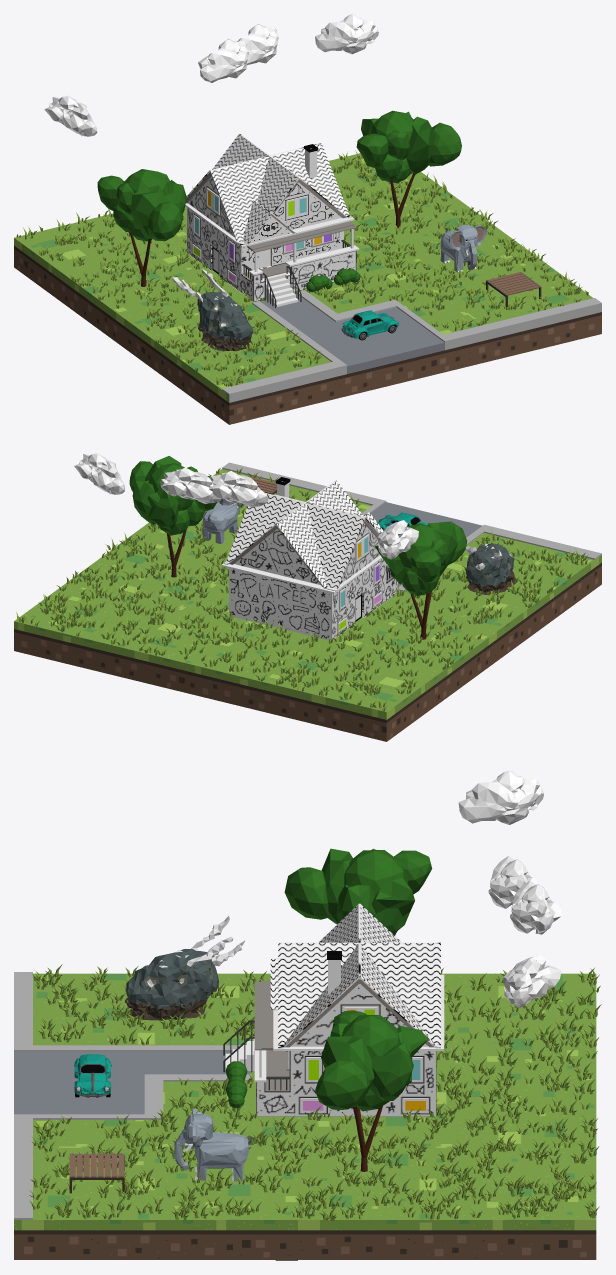
The picture shows the model from 3 angles, top to bottom: view 1: azimuth 30°, elevation 25°; view 2: azimuth 150°, elevation 25°; view 3: azimuth 270°, elevation 25°; orthographic projection. The views are drawn at different scales.
Visible parts, largest first — view 1: Cube.006, Cube.879, Circle.012_Grass_0.192, Cube.007, tree, tree.001, OBJRANDOM_METEORITE, ANIMAL_ELEFANTE, VEHICLES_VOLKSWAGEN, Cube.009; view 2: Cube.006, Cube.879, Circle.012_Grass_0.192, Cube.007, tree.001, tree, OBJRANDOM_METEORITE, ANIMAL_ELEFANTE, VEHICLES_VOLKSWAGEN; view 3: Cube.006, Circle.012_Grass_0.192, Cube.879, tree, Cube.007, tree.001, OBJRANDOM_METEORITE, ANIMAL_ELEFANTE, Cube.009, VEHICLES_VOLKSWAGEN.
Part boxes in pixels (left/top/right/bottom): Cube.006: left=14, top=153, right=601, bottom=424; Cube.879: left=185, top=134, right=359, bottom=308; Circle.012_Grass_0.192: left=16, top=150, right=588, bottom=386; Cube.007: left=44, top=14, right=378, bottom=136; tree: left=356, top=110, right=461, bottom=228; tree.001: left=97, top=169, right=186, bottom=286; OBJRANDOM_METEORITE: left=172, top=269, right=252, bottom=351; ANIMAL_ELEFANTE: left=440, top=224, right=486, bottom=273; VEHICLES_VOLKSWAGEN: left=341, top=310, right=398, bottom=340; Cube.009: left=486, top=272, right=541, bottom=306; Cube.006: left=14, top=462, right=601, bottom=741; Cube.879: left=221, top=477, right=398, bottom=640; Circle.012_Grass_0.192: left=16, top=468, right=588, bottom=711; Cube.007: left=74, top=453, right=418, bottom=559; tree.001: left=375, top=521, right=467, bottom=639; tree: left=129, top=456, right=216, bottom=577; OBJRANDOM_METEORITE: left=465, top=543, right=516, bottom=594; ANIMAL_ELEFANTE: left=202, top=498, right=243, bottom=543; VEHICLES_VOLKSWAGEN: left=377, top=512, right=427, bottom=530; Cube.006: left=14, top=972, right=596, bottom=1259; Circle.012_Grass_0.192: left=29, top=964, right=601, bottom=1221; Cube.879: left=223, top=903, right=444, bottom=1116; tree: left=315, top=1010, right=428, bottom=1171; Cube.007: left=458, top=770, right=561, bottom=1007; tree.001: left=284, top=848, right=432, bottom=935; OBJRANDOM_METEORITE: left=125, top=916, right=244, bottom=1020; ANIMAL_ELEFANTE: left=174, top=1108, right=252, bottom=1181; Cube.009: left=69, top=1153, right=124, bottom=1193; VEHICLES_VOLKSWAGEN: left=74, top=1054, right=111, bottom=1097.
Bounding box in the file's own units: 4071 × 2184 × 4040.
38 materials, 10 textured.
